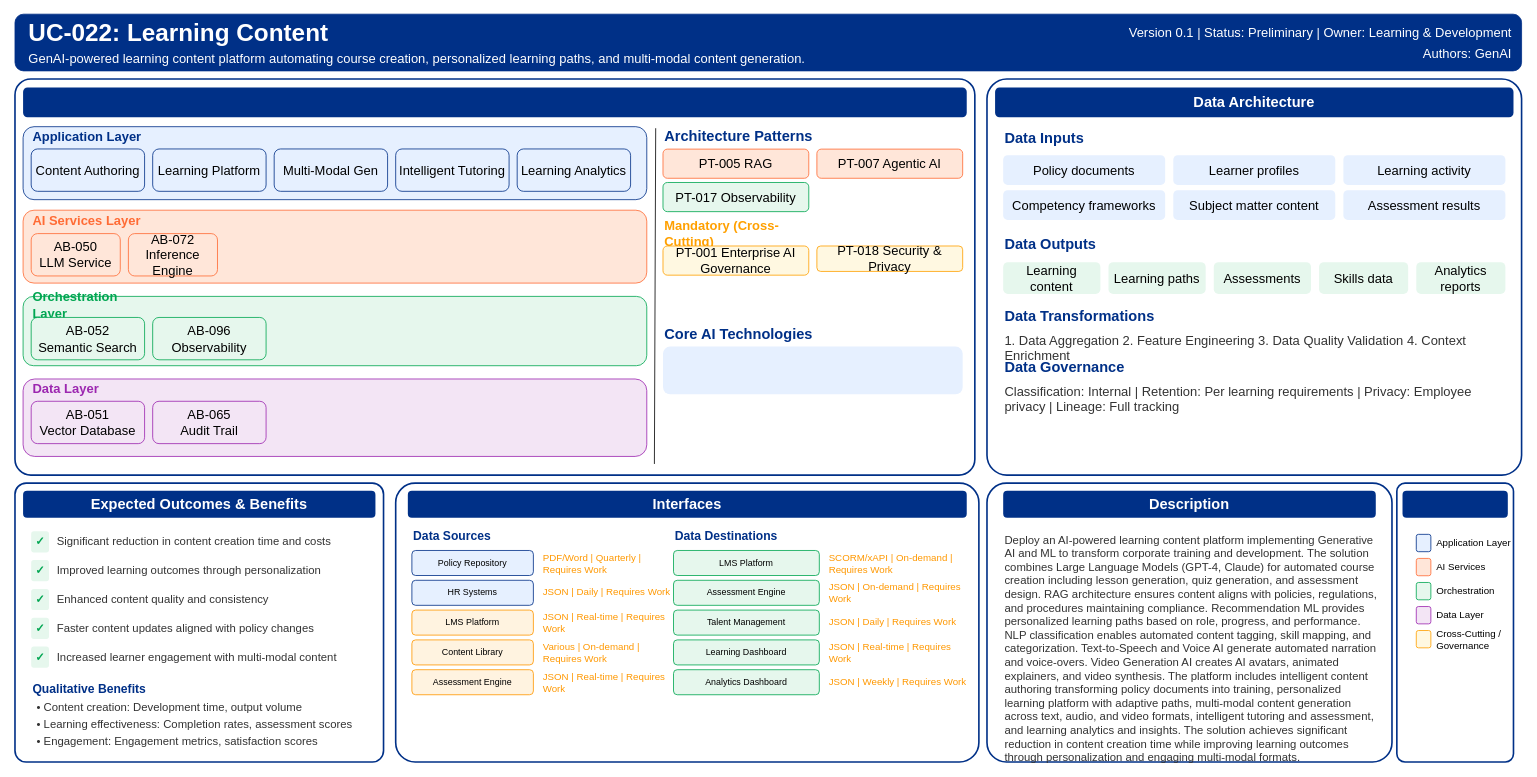
Image size: 1537x777. Some labels were removed from this diagram. Each missing label, with the centre of its shape:
GPT-4/Claude | Text-to-Speech | Video Generation | Recommendation ML: pixel 812 370
Legend: pixel 1454 503
Solution: pixel 494 102
